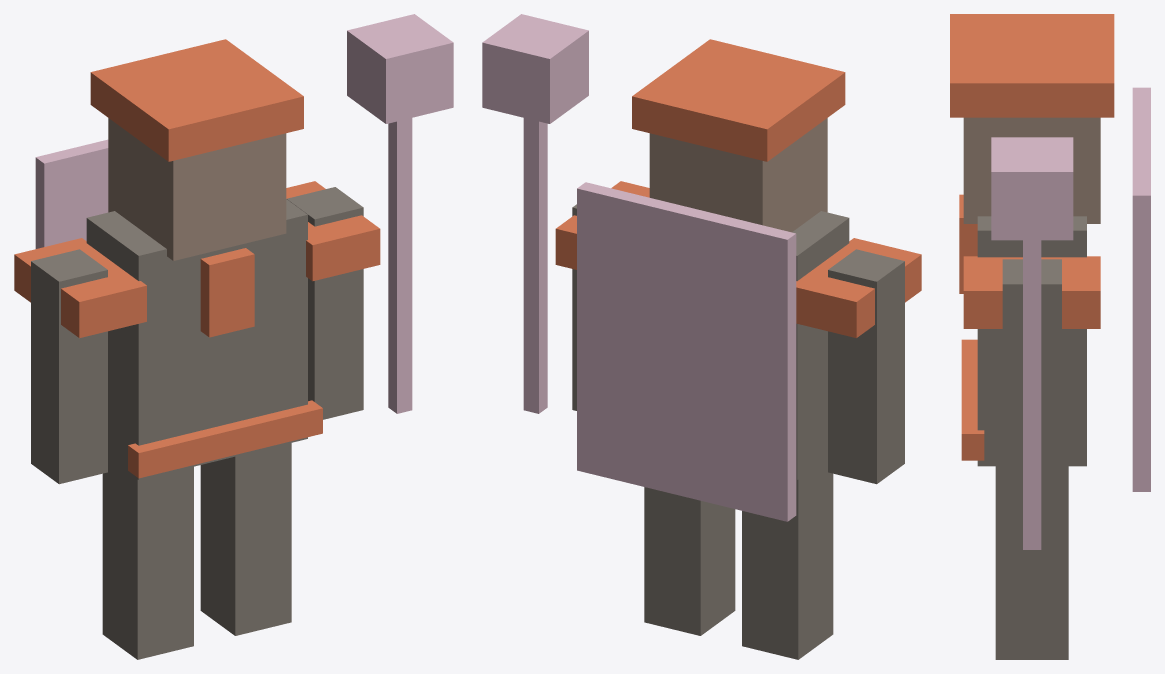
The model's file is 07_lyric_mossguard_pilgrim_near_scavenger.glb.
The picture shows the model from 3 angles, left to right: view 1: azimuth 30°, elevation 25°; view 2: azimuth 150°, elevation 25°; view 3: azimuth 270°, elevation 25°; orthographic projection. The views are drawn at different scales.
Visible parts, largest first — view 1: Lyric Mossguard, Pilgrim near Scavenger; view 2: Lyric Mossguard, Pilgrim near Scavenger; view 3: Lyric Mossguard, Pilgrim near Scavenger.
Part boxes in pixels (box(x1,y1,x2,y2)): Lyric Mossguard, Pilgrim near Scavenger: box(14, 14, 453, 659); Lyric Mossguard, Pilgrim near Scavenger: box(482, 14, 921, 659); Lyric Mossguard, Pilgrim near Scavenger: box(950, 14, 1150, 659).
Bounding box in the file's own units: 1.06 × 1.42 × 0.4518.
